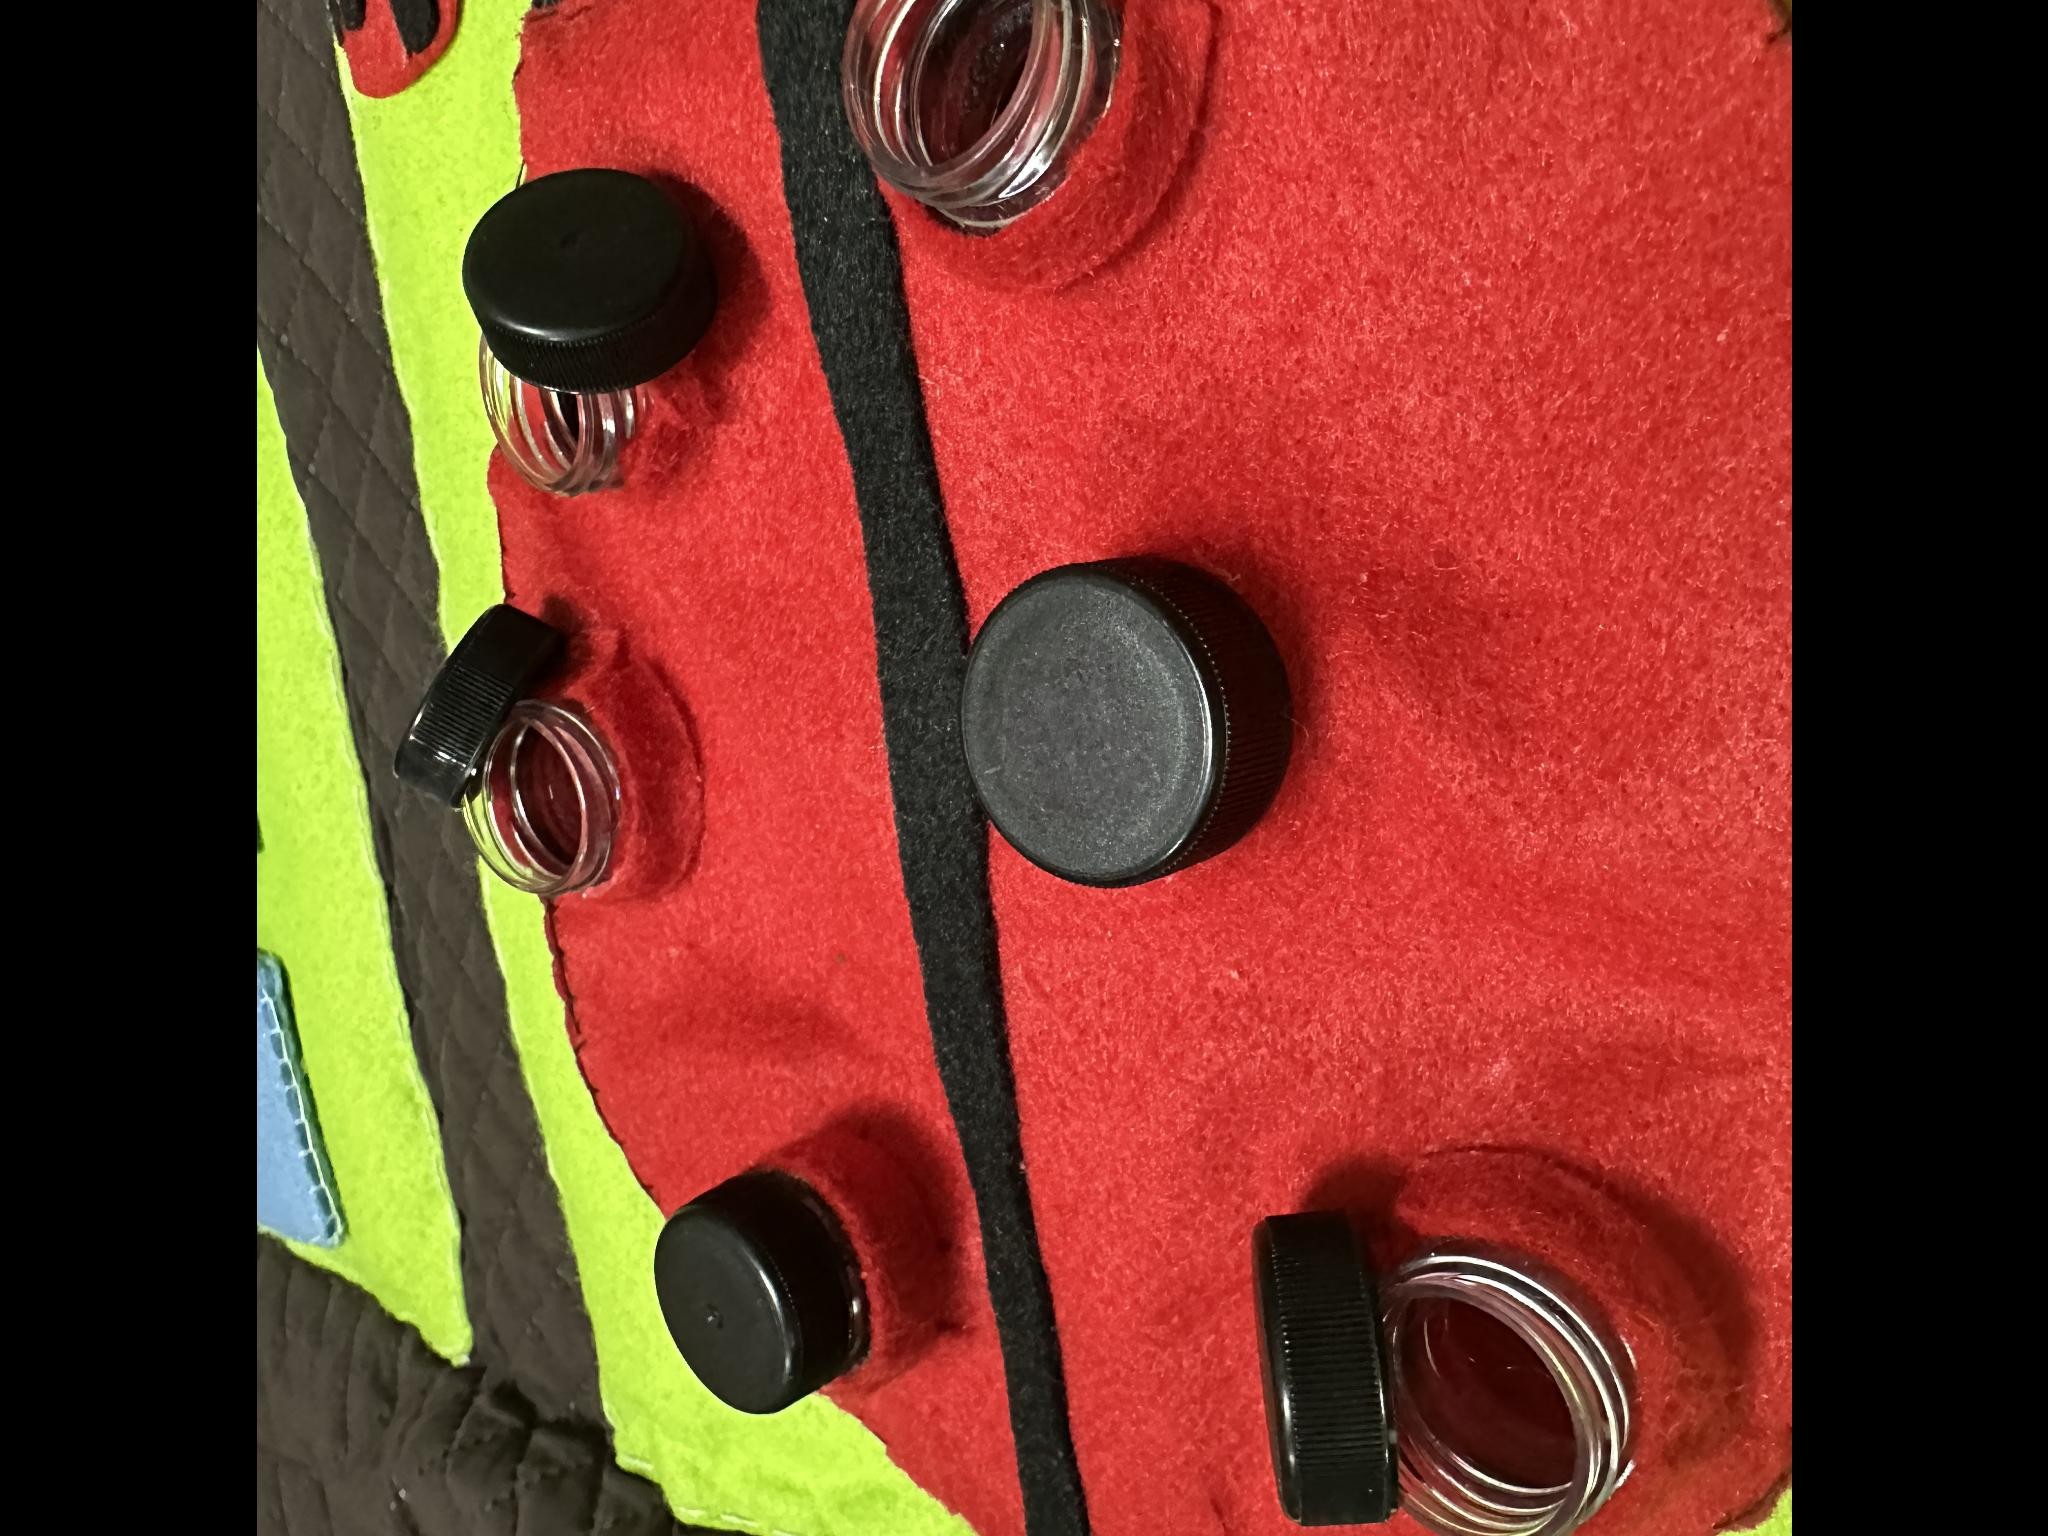cap_ng: (1213, 1137, 1738, 1536), (805, 0, 1211, 255), (453, 153, 732, 515), (390, 594, 685, 900)
cap_ok: (958, 503, 1330, 891), (650, 1102, 963, 1425)
